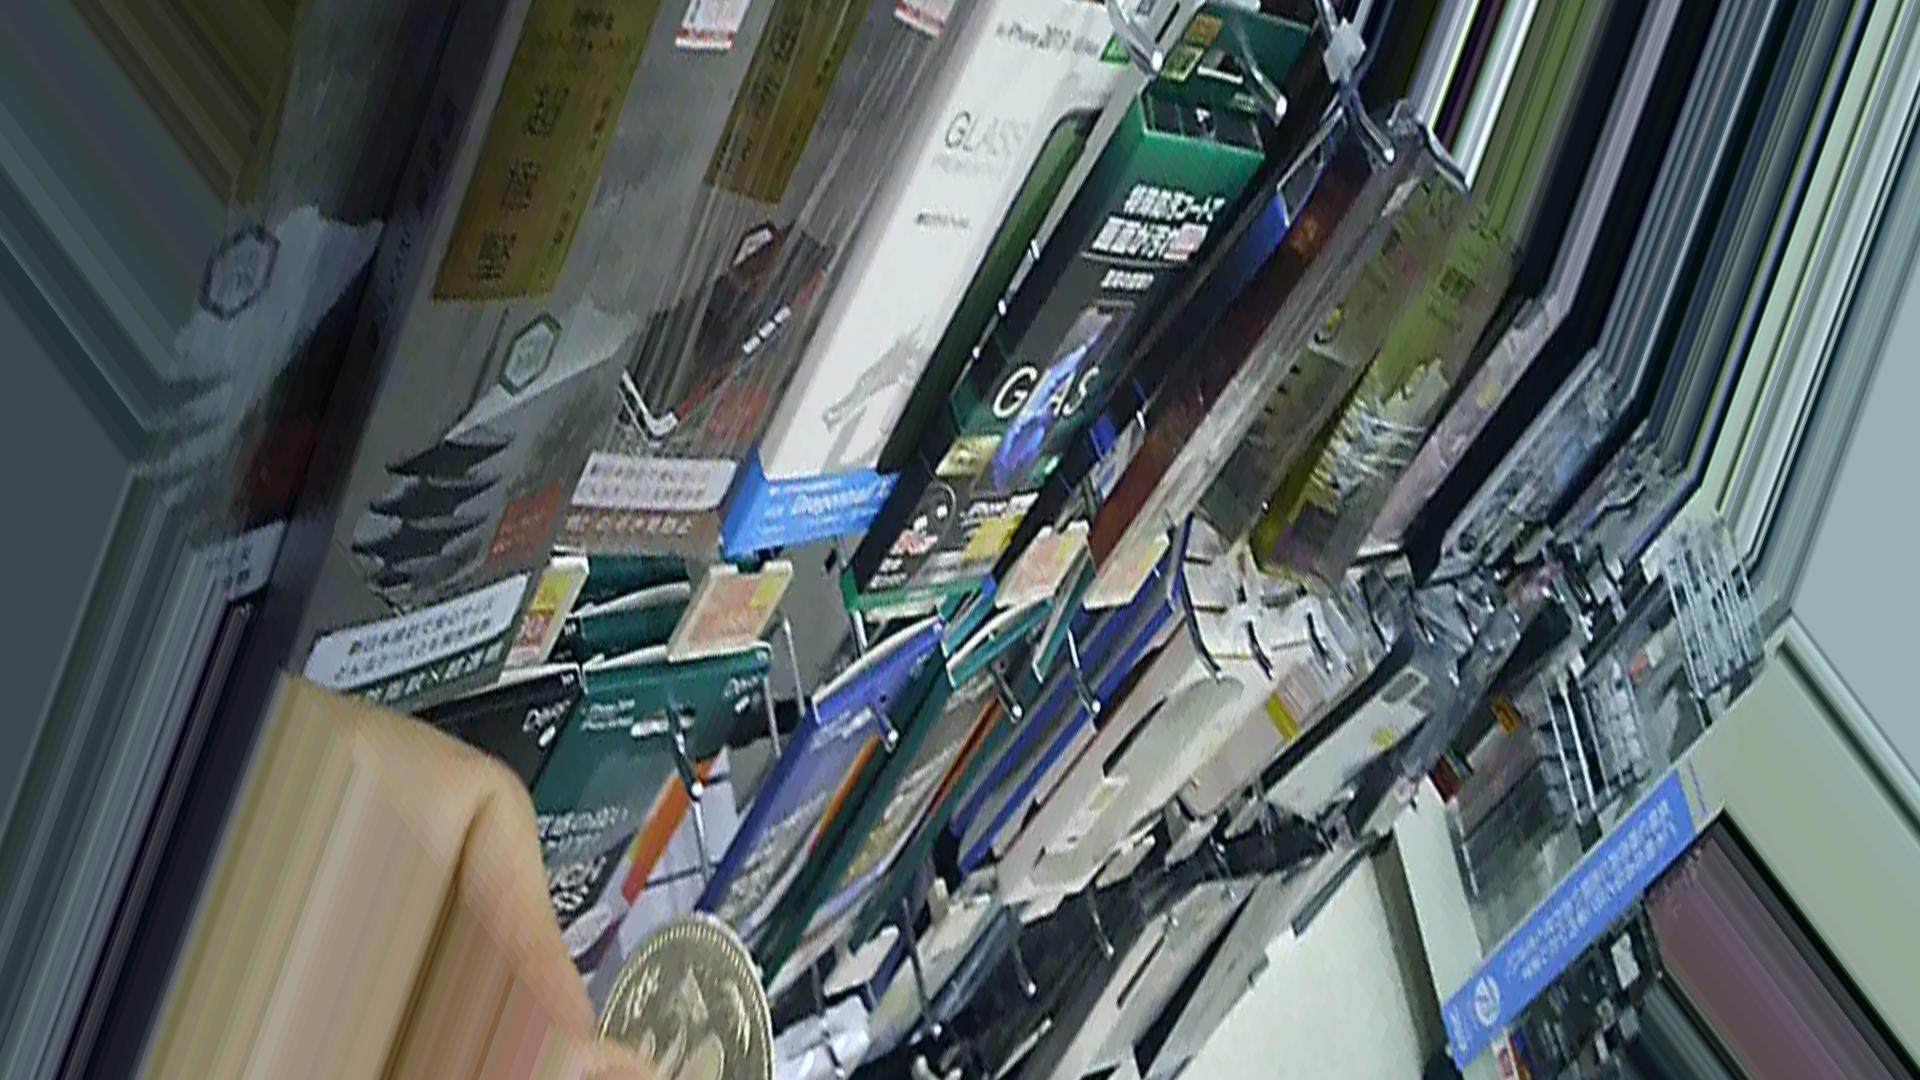500 Yen: (583, 905, 796, 1079)
